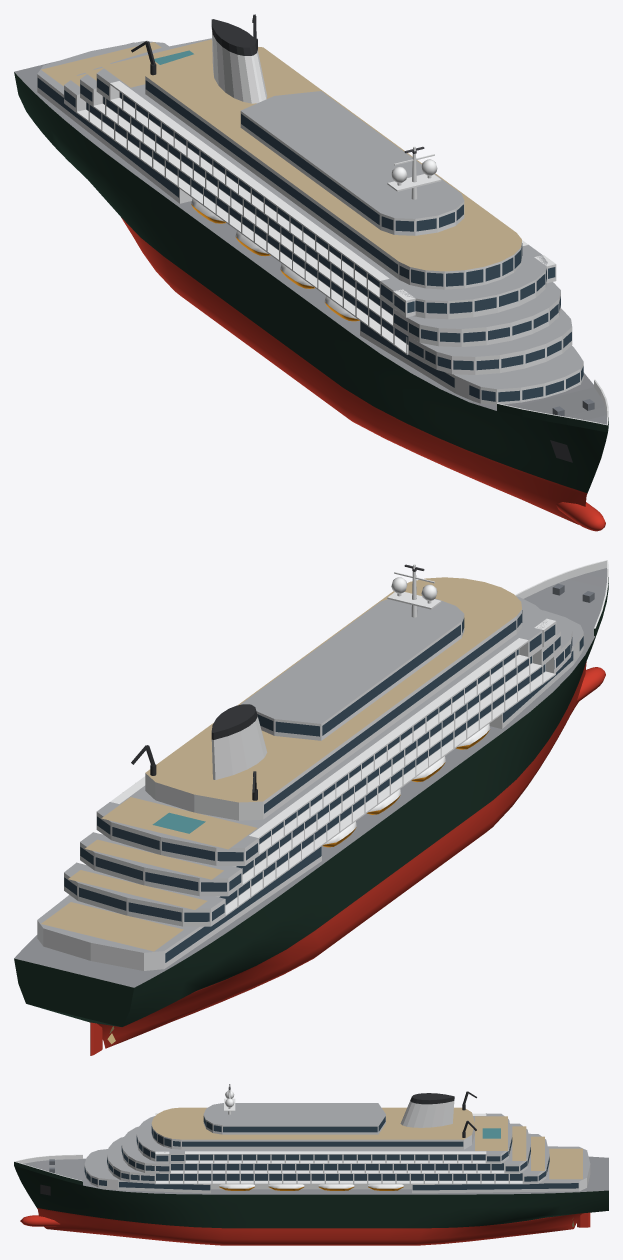
Rendered from ambient_cruise_ship.fbx.
The picture shows the model from 3 angles, top to bottom: view 1: azimuth 30°, elevation 25°; view 2: azimuth 150°, elevation 25°; view 3: azimuth 270°, elevation 25°; orthographic projection. The views are drawn at different scales.
Parts seen in each view (by area): view 1: ambient_cruise_ship; view 2: ambient_cruise_ship; view 3: ambient_cruise_ship.
Part boxes in pixels (<box>): ambient_cruise_ship: <box>14,14,608,531</box>; ambient_cruise_ship: <box>14,560,608,1055</box>; ambient_cruise_ship: <box>14,1084,608,1245</box>.
Bounding box in the file's own units: 26.06 × 42.6 × 160.
